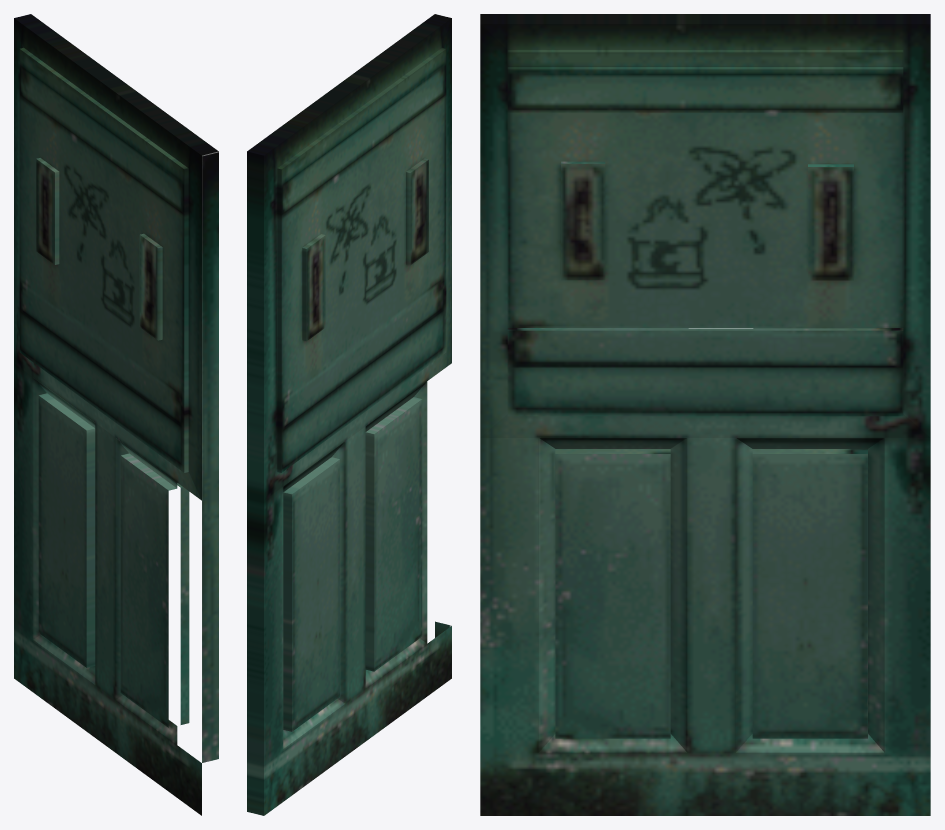
The model's file is unsubdivided_door_with_animation.glb.
The picture shows the model from 3 angles, left to right: view 1: azimuth 30°, elevation 25°; view 2: azimuth 150°, elevation 25°; view 3: azimuth 270°, elevation 25°; orthographic projection. The views are drawn at different scales.
Visible parts, largest first — view 1: Door; view 2: Door; view 3: Door.
Boxes of the visible parts, x1=… form: Door: x1=14, y1=14, x2=218, y2=815; Door: x1=247, y1=14, x2=451, y2=815; Door: x1=480, y1=14, x2=930, y2=815.
Size of the model in its own units: 0.2213 by 3.7 by 1.91.
1 material, 1 textured.
